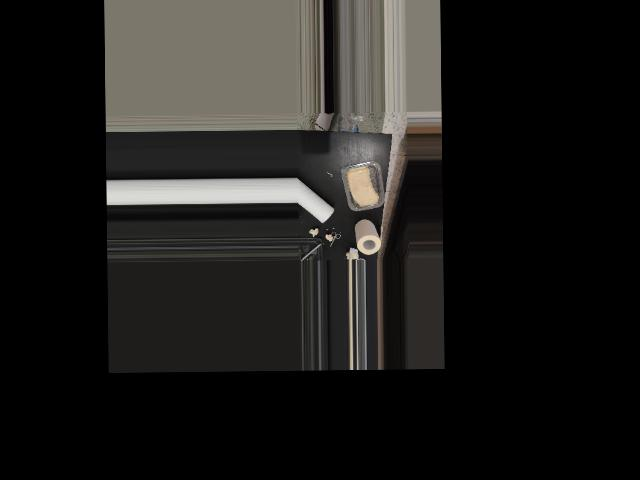cheese: (342, 160, 381, 211)
